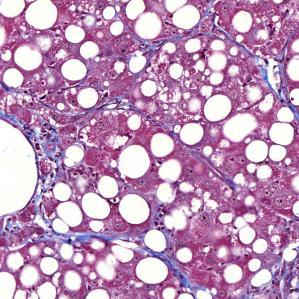fibrosis: (30, 126, 69, 214)
